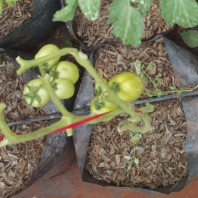tomato: (108, 69, 144, 103), (20, 77, 52, 110), (86, 92, 116, 123), (52, 61, 87, 85), (31, 43, 62, 69), (49, 78, 76, 100)
